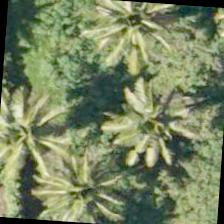Kelapa_Sawit: (104, 87, 200, 183), (36, 142, 133, 223), (86, 0, 181, 68), (0, 83, 67, 178)
